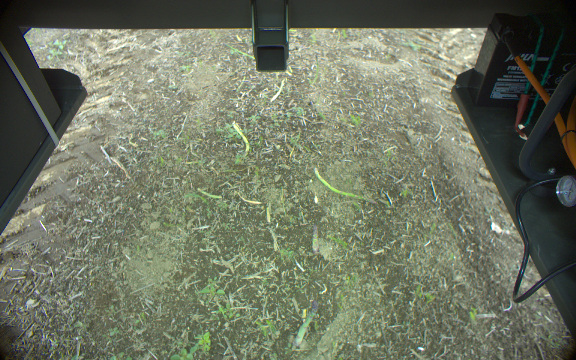aspa: (313, 163, 376, 204), (294, 297, 322, 346), (228, 119, 250, 151), (222, 42, 252, 58), (310, 221, 322, 256)
